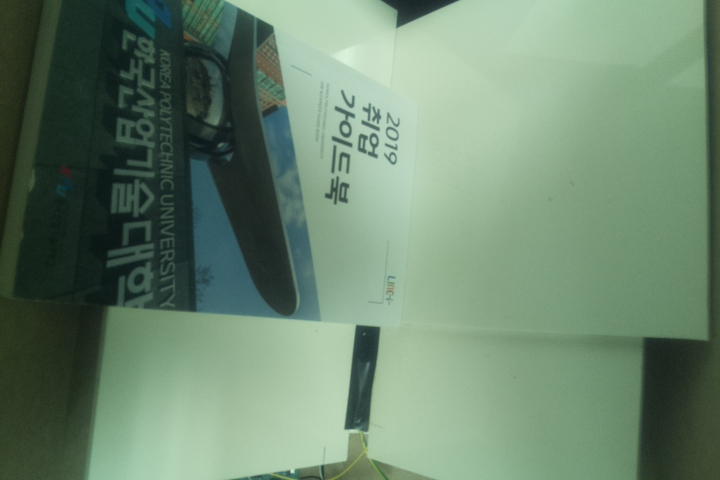book: (1, 1, 420, 334)
